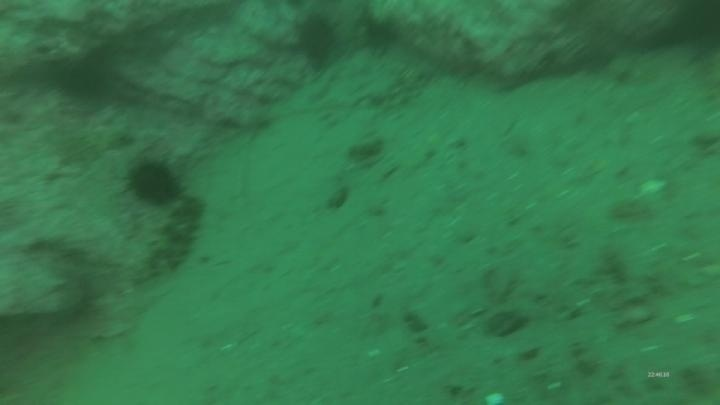echinus: (124, 156, 184, 209), (52, 54, 112, 104), (293, 12, 341, 69)
holothurian: (141, 191, 206, 280), (50, 118, 133, 168)
